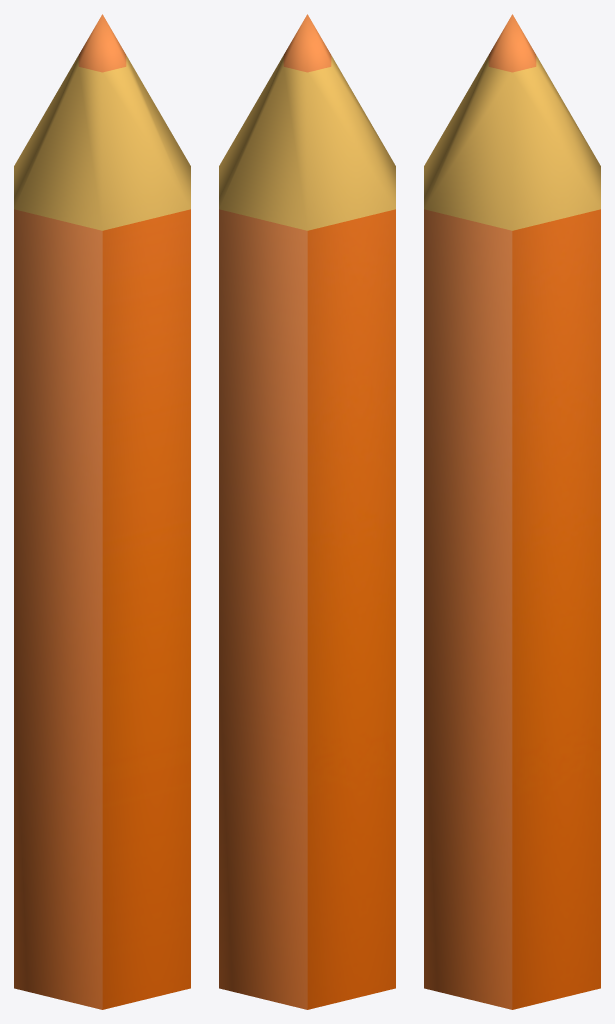
The model's file is SM_Pencil04.fbx.
The picture shows the model from 3 angles, left to right: view 1: azimuth 30°, elevation 25°; view 2: azimuth 150°, elevation 25°; view 3: azimuth 270°, elevation 25°; orthographic projection.
Parts seen in each view (by area): view 1: SM_Pencil04; view 2: SM_Pencil04; view 3: SM_Pencil04.
Boxes of the visible parts, box(x1,y1,x2,y2) form: SM_Pencil04: box(14, 14, 190, 1009); SM_Pencil04: box(219, 14, 395, 1009); SM_Pencil04: box(424, 14, 600, 1009).
Bounding box in the file's own units: 8 × 41.19 × 6.93.
